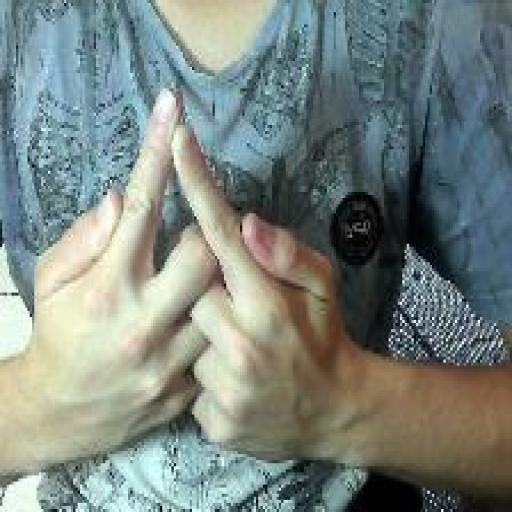Uma -horse-: (26, 82, 349, 470)
